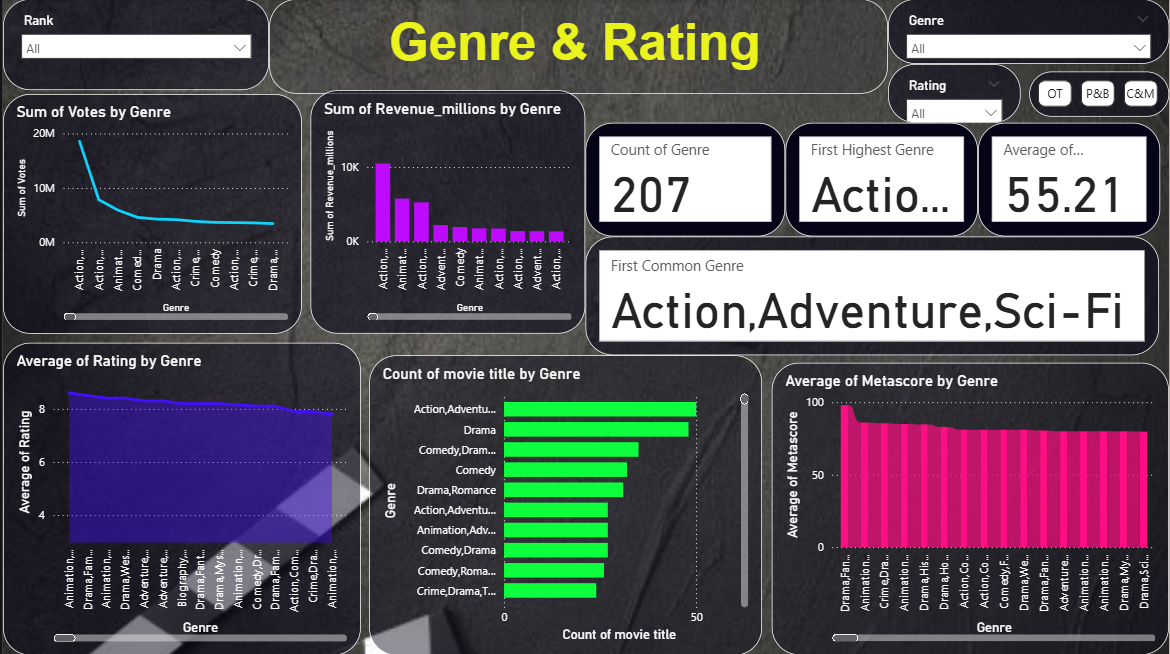

Layout of this report page (visuals, bound fields, positions):
{"tool":"powerbi","page":{"name":"G&R","canvas":[1280,720],"ordinal":1},"visuals":[{"type":"textbox","box":[292.3,0,679.2,104.3],"z":0},{"type":"barChart","fields":{"Category":["IMDB-Movie-Data.Genre"],"Y":["CountNonNull(IMDB-Movie-Data.movie title)"]},"box":[402.1,391.1,430.9,329.3],"z":1000},{"type":"areaChart","fields":{"Category":["IMDB-Movie-Data.Genre"],"Y":["Avg(IMDB-Movie-Data.Rating)"]},"box":[0,377.4,392.5,343.1],"z":2000},{"type":"columnChart","fields":{"Category":["IMDB-Movie-Data.Genre"],"Y":["Sum(IMDB-Movie-Data.Revenue_millions)"]},"box":[337.6,100.2,301.9,267.6],"z":3000},{"type":"ribbonChart","fields":{"Category":["IMDB-Movie-Data.Genre"],"Y":["Avg(IMDB-Movie-Data.Metascore)"]},"box":[843.9,399.3,436.4,321.1],"z":4000},{"type":"lineChart","fields":{"Category":["IMDB-Movie-Data.Genre"],"Y":["Sum(IMDB-Movie-Data.Votes)"]},"box":[0,104.3,328,263.5],"z":5000},{"type":"cardVisual","fields":{"Data":["Min(IMDB-Movie-Data.Highest Genre)"]},"box":[859,135.8,211.3,124.9],"z":6000},{"type":"cardVisual","fields":{"Data":["Min(IMDB-Movie-Data.Common Genre)"]},"box":[639.5,260.7,629.8,130.4],"z":7000},{"type":"cardVisual","fields":{"Data":["Count(IMDB-Movie-Data.Genre)"]},"box":[639.5,135.8,219.6,124.9],"z":8000},{"type":"cardVisual","fields":{"Data":["Avg(IMDB-Movie-Data.Metascore)"]},"box":[1070.3,135.8,200.3,124.9],"z":9000},{"type":"slicer","fields":{"Values":["IMDB-Movie-Data.Genre"]},"box":[971.5,0,308.7,71.4],"z":10000},{"type":"slicer","fields":{"Values":["IMDB-Movie-Data.Rank"]},"box":[0,0,292.3,100.2],"z":11000},{"type":"slicer","fields":{"Values":["IMDB-Movie-Data.Rating"]},"box":[971.5,71.4,145.5,64.5],"z":12000},{"type":"pageNavigator","box":[1126.6,79.6,153.7,49.4],"z":12001}]}

Visuals, with their boxes in screenshot pixels (x1, y1, x2, y2), scaled from the page's 1280x720 canvas onto the 1170x654 screenshot:
textbox: region(267, 0, 888, 95)
barChart - IMDB-Movie-Data.Genre x CountNonNull(IMDB-Movie-Data.movie title): region(368, 355, 761, 653)
areaChart - IMDB-Movie-Data.Genre x Avg(IMDB-Movie-Data.Rating): region(0, 343, 359, 653)
columnChart - IMDB-Movie-Data.Genre x Sum(IMDB-Movie-Data.Revenue_millions): region(309, 91, 585, 334)
ribbonChart - IMDB-Movie-Data.Genre x Avg(IMDB-Movie-Data.Metascore): region(771, 363, 1169, 653)
lineChart - IMDB-Movie-Data.Genre x Sum(IMDB-Movie-Data.Votes): region(0, 95, 300, 334)
cardVisual - Min(IMDB-Movie-Data.Highest Genre): region(785, 123, 978, 237)
cardVisual - Min(IMDB-Movie-Data.Common Genre): region(585, 237, 1160, 355)
cardVisual - Count(IMDB-Movie-Data.Genre): region(585, 123, 785, 237)
cardVisual - Avg(IMDB-Movie-Data.Metascore): region(978, 123, 1161, 237)
slicer - IMDB-Movie-Data.Genre: region(888, 0, 1169, 65)
slicer - IMDB-Movie-Data.Rank: region(0, 0, 267, 91)
slicer - IMDB-Movie-Data.Rating: region(888, 65, 1021, 123)
pageNavigator: region(1030, 72, 1169, 117)
